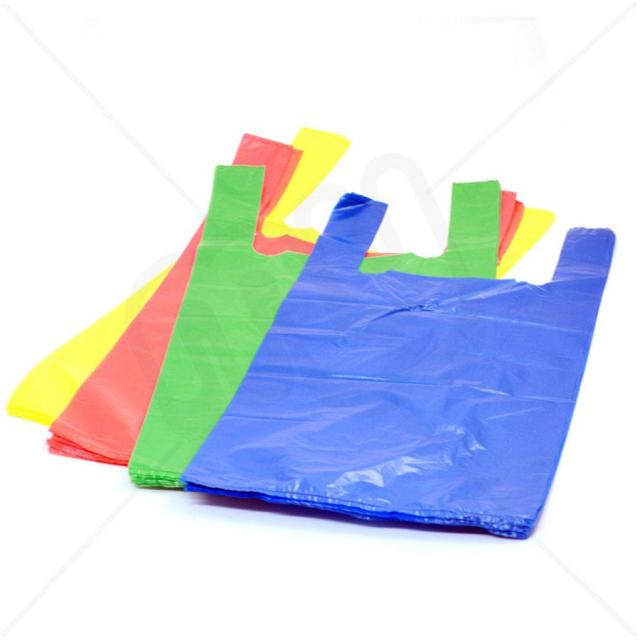plastic_bag: (3, 117, 620, 553), (181, 187, 620, 548)
